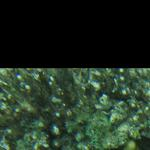dead: (1, 70, 147, 149)
